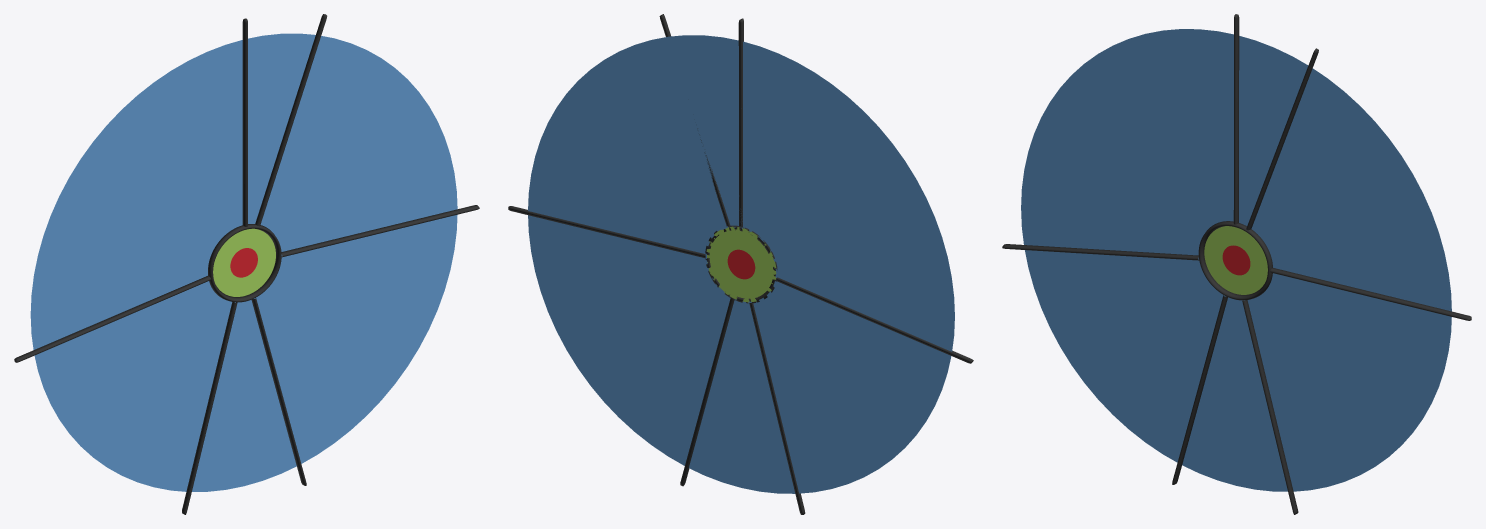
File: Darchary_L2.fbx
3 views of the same model, side by side, from view 1: azimuth 30°, elevation 25°; view 2: azimuth 150°, elevation 25°; view 3: azimuth 330°, elevation 25° (orthographic).
Parts seen in each view (by area): view 1: L2_F, L2_C, L2_B, L2_E, L2_D, L2_DarkLine, L2_A, L2_BullsEye_OR, L2_BullsEye; view 2: L2_F, L2_C, L2_B, L2_E, L2_D, L2_A, L2_DarkLine, L2_BullsEye_OR, L2_BullsEye; view 3: L2_F, L2_C, L2_B, L2_E, L2_D, L2_DarkLine, L2_A, L2_BullsEye_OR, L2_BullsEye.
Part boxes in pixels (left/top/right/bottom): L2_F: left=30, top=40, right=242, bottom=349; L2_C: left=254, top=214, right=457, bottom=463; L2_B: left=260, top=36, right=457, bottom=251; L2_E: left=34, top=281, right=232, bottom=491; L2_D: left=192, top=300, right=296, bottom=491; L2_DarkLine: left=14, top=14, right=479, bottom=514; L2_A: left=248, top=33, right=315, bottom=223; L2_BullsEye_OR: left=213, top=228, right=275, bottom=296; L2_BullsEye: left=230, top=248, right=257, bottom=277; L2_F: left=741, top=41, right=954, bottom=351; L2_C: left=528, top=215, right=730, bottom=465; L2_B: left=528, top=37, right=727, bottom=255; L2_E: left=750, top=281, right=951, bottom=493; L2_D: left=689, top=299, right=795, bottom=493; L2_A: left=668, top=35, right=738, bottom=227; L2_DarkLine: left=508, top=14, right=973, bottom=514; L2_BullsEye_OR: left=706, top=226, right=776, bottom=302; L2_BullsEye: left=727, top=249, right=755, bottom=279; L2_F: left=1021, top=29, right=1233, bottom=258; L2_C: left=1247, top=273, right=1451, bottom=491; L2_B: left=1251, top=68, right=1451, bottom=311; L2_E: left=1025, top=250, right=1225, bottom=462; L2_D: left=1182, top=297, right=1287, bottom=491; L2_DarkLine: left=1002, top=14, right=1471, bottom=514; L2_A: left=1239, top=36, right=1308, bottom=225; L2_BullsEye_OR: left=1204, top=226, right=1267, bottom=294; L2_BullsEye: left=1222, top=245, right=1250, bottom=275.
Size of the model in its own units: 219 by 217 by 2.01.
